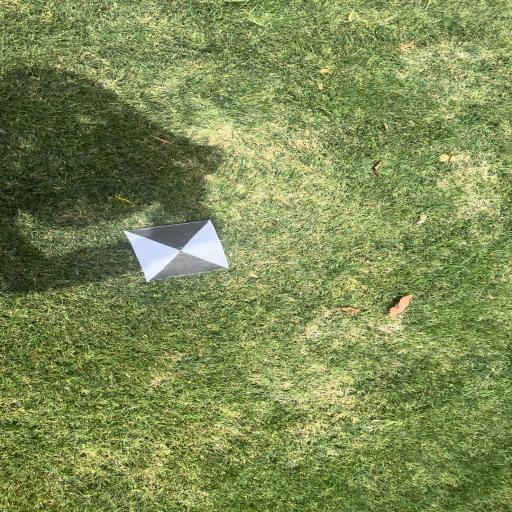target: (122, 220, 229, 281)
